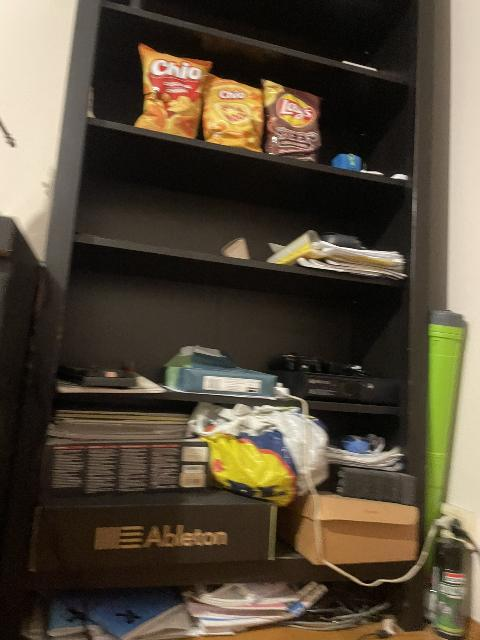Chio Cascaval 125g: (133, 42, 214, 139)
Chio Hula Hoops Cheese 70g: (200, 75, 267, 149)
Lays Beef Grilled Ribs 125g: (263, 82, 325, 160)
